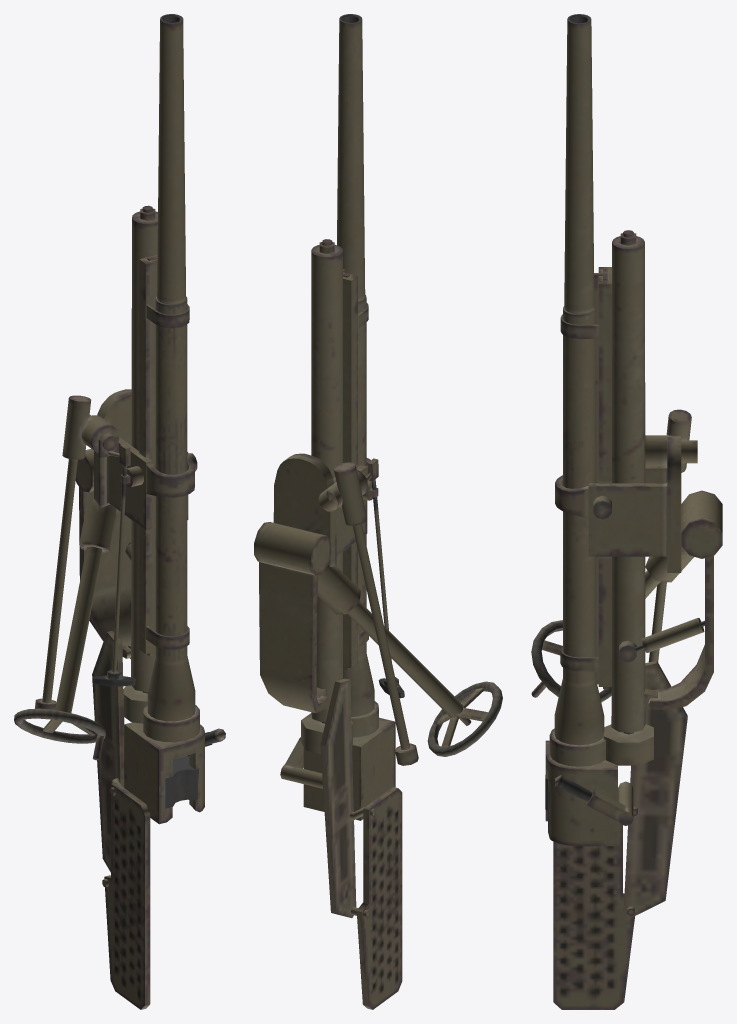
The model's file is Gun_01.glb.
The picture shows the model from 3 angles, left to right: view 1: azimuth 30°, elevation 25°; view 2: azimuth 150°, elevation 25°; view 3: azimuth 270°, elevation 25°; orthographic projection. The views are drawn at different scales.
Visible parts, largest first — view 1: set_0_group_0; view 2: set_0_group_0; view 3: set_0_group_0.
Boxes of the visible parts, x1,y1,x2,y2 form: set_0_group_0: (14, 14, 225, 1009); set_0_group_0: (254, 14, 502, 1009); set_0_group_0: (531, 14, 722, 1009).
Bounding box in the file's own units: 0.4821 × 2.31 × 0.3973.
1 material, 1 textured.
